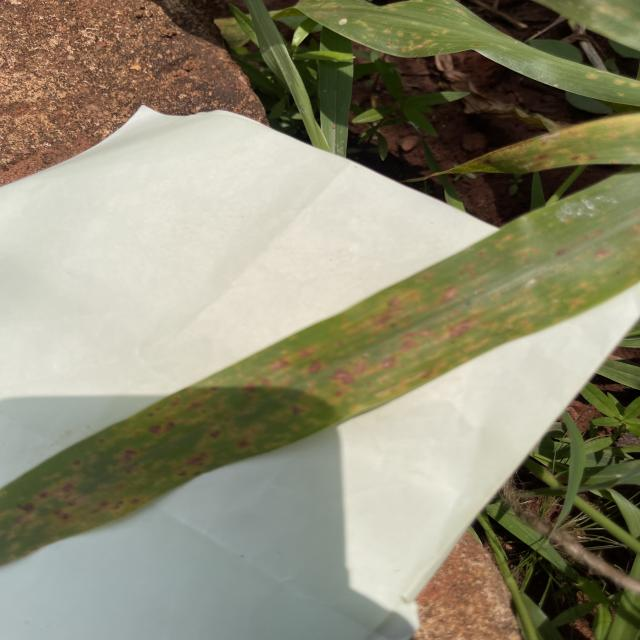millet_rust: (1, 172, 640, 565)
